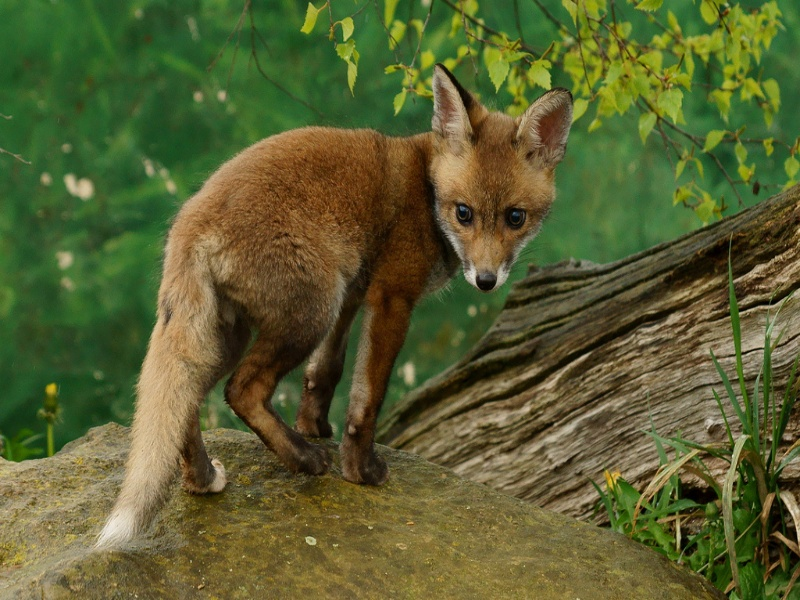fox: (93, 62, 587, 553)
